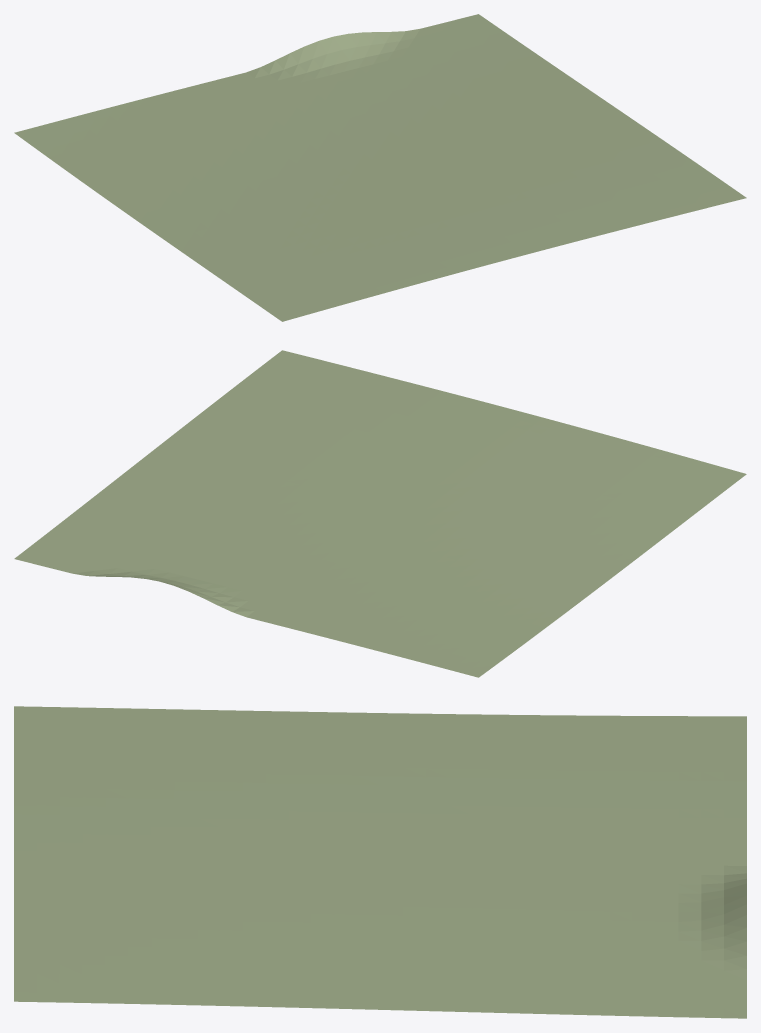
Rendered from expanse-20-7.glb.
3 renders of one model, top to bottom at view 1: azimuth 30°, elevation 25°; view 2: azimuth 150°, elevation 25°; view 3: azimuth 270°, elevation 25°, orthographic. The views are drawn at different scales.
Visible parts, largest first — view 1: expanse-20-7; view 2: expanse-20-7; view 3: expanse-20-7.
Part boxes in pixels (x1,y1,x2,y2): expanse-20-7: (14, 14, 746, 321); expanse-20-7: (14, 350, 746, 677); expanse-20-7: (14, 706, 746, 1018).
Bounding box in the file's own units: 256 × 9.64 × 256.
